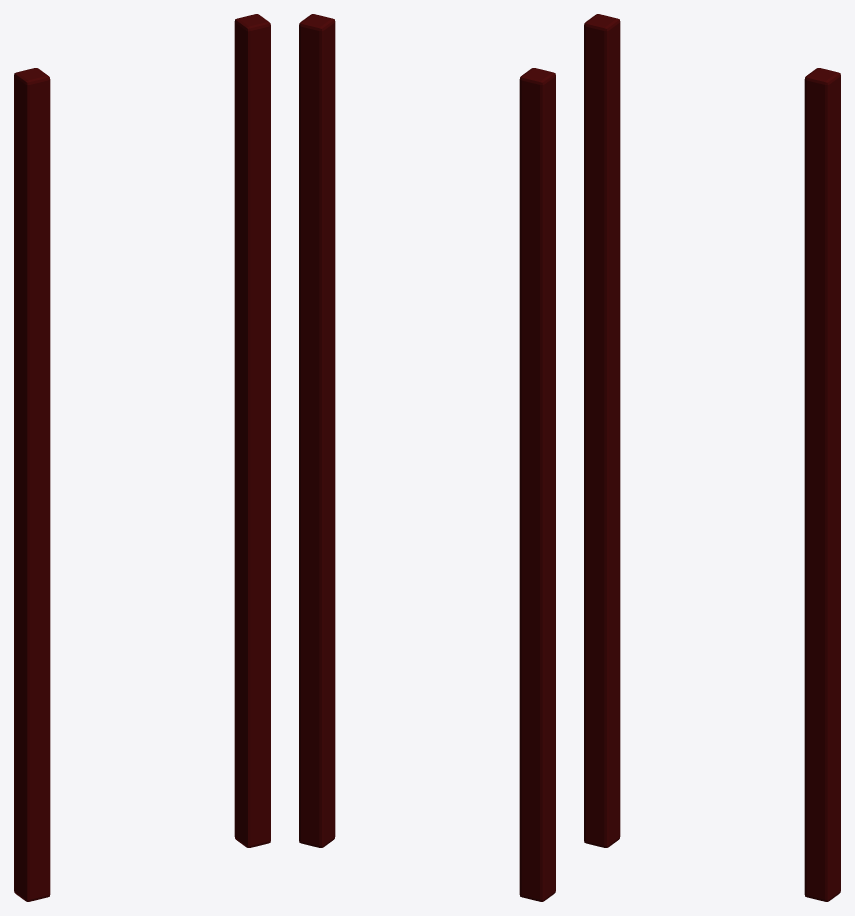
The model's file is RopeVertical.glb.
The picture shows the model from 3 angles, left to right: view 1: azimuth 30°, elevation 25°; view 2: azimuth 150°, elevation 25°; view 3: azimuth 330°, elevation 25°; orthographic projection.
Visible parts, largest first — view 1: __playground; view 2: __playground; view 3: __playground.
Boxes of the visible parts, box(x1,y1,x2,y2) form: __playground: box(14, 14, 270, 901); __playground: box(299, 14, 555, 901); __playground: box(584, 14, 840, 901).
Size of the model in its own units: 0.32 by 1.02 by 0.032.
